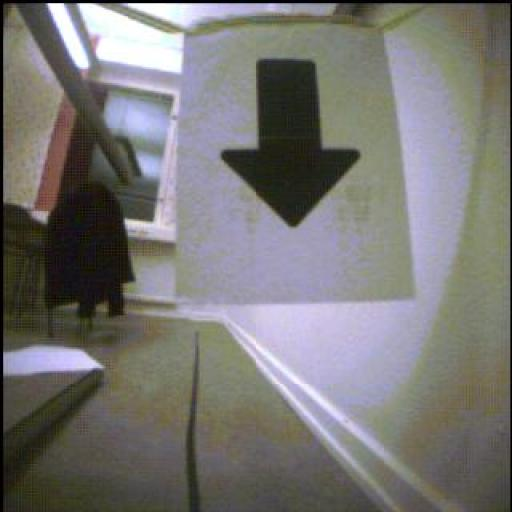Arrow: (222, 60, 361, 228)
